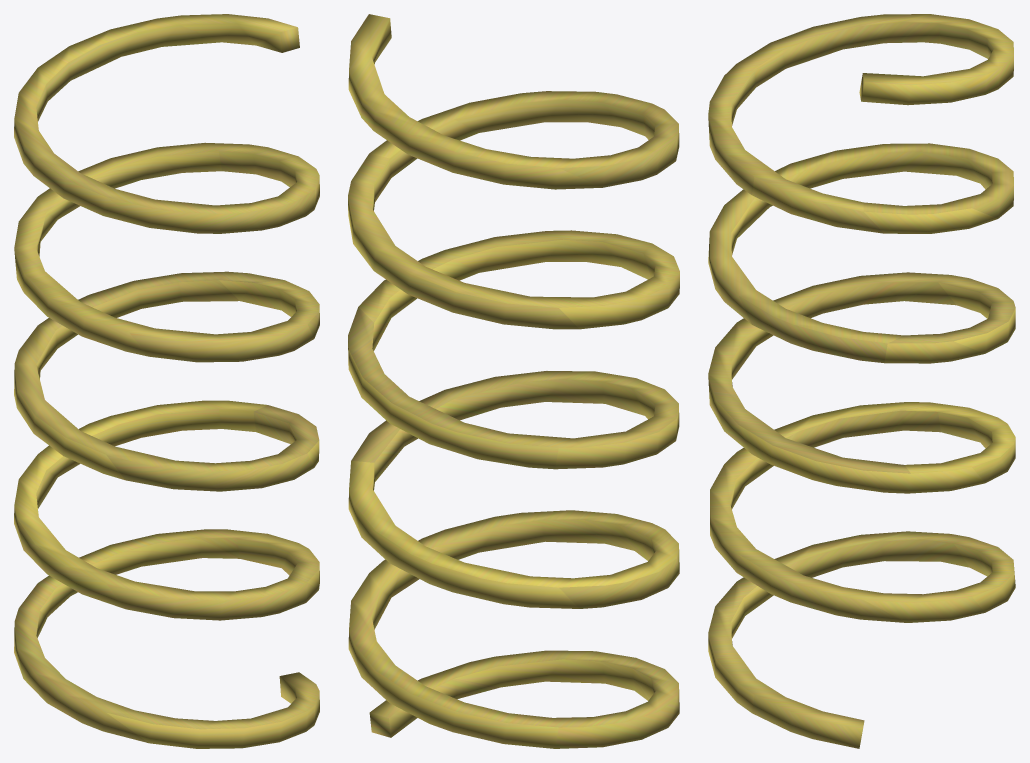
The model's file is Spring001.fbx.
3 views of the same model, side by side, from view 1: azimuth 30°, elevation 25°; view 2: azimuth 150°, elevation 25°; view 3: azimuth 270°, elevation 25° (orthographic). The views are drawn at different scales.
Parts seen in each view (by area): view 1: Spring001; view 2: Spring001; view 3: Spring001.
Boxes of the visible parts, bbox=[...] form: Spring001: bbox=[14, 14, 319, 748]; Spring001: bbox=[348, 14, 679, 748]; Spring001: bbox=[708, 14, 1015, 748].
Size of the model in its own units: 84.78 by 203 by 84.76.
